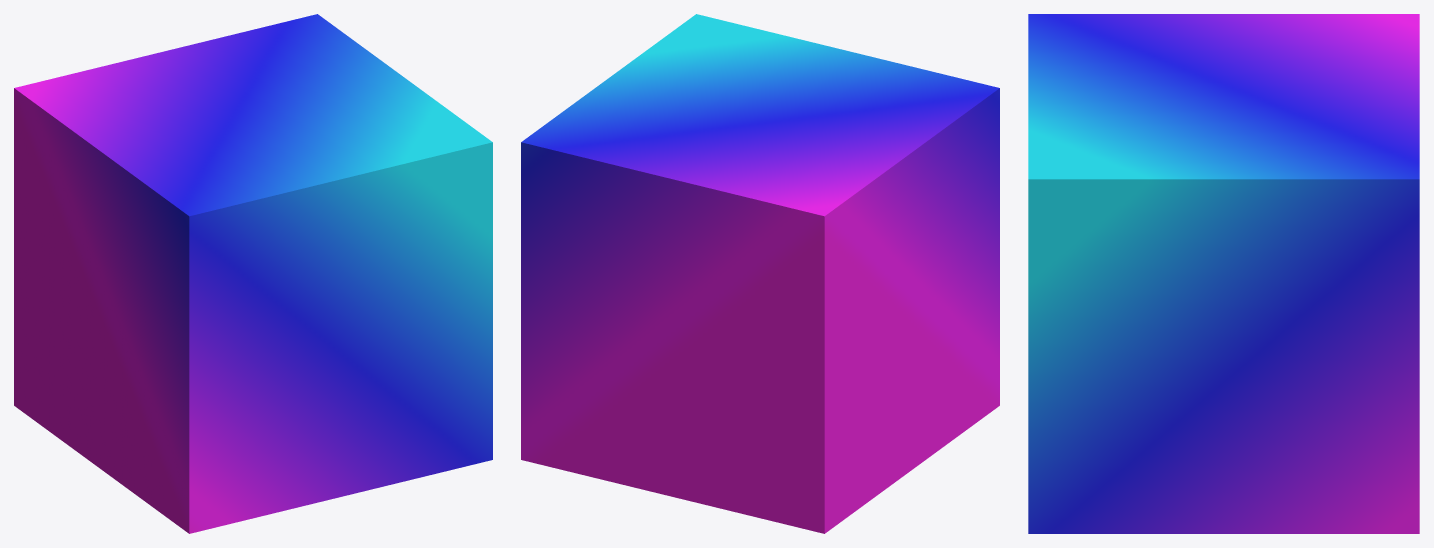
File: rainbow.gltf
3 renders of one model, left to right at view 1: azimuth 30°, elevation 25°; view 2: azimuth 150°, elevation 25°; view 3: azimuth 270°, elevation 25°, orthographic. The views are drawn at different scales.
Parts seen in each view (by area): view 1: frame_0; view 2: frame_0; view 3: frame_0.
Boxes of the visible parts, box(x1,y1,x2,y2) form: frame_0: box(14, 14, 492, 533); frame_0: box(521, 14, 999, 533); frame_0: box(1028, 14, 1419, 533).
Size of the model in its own units: 2 by 2 by 2.
100 materials, 100 textured.
